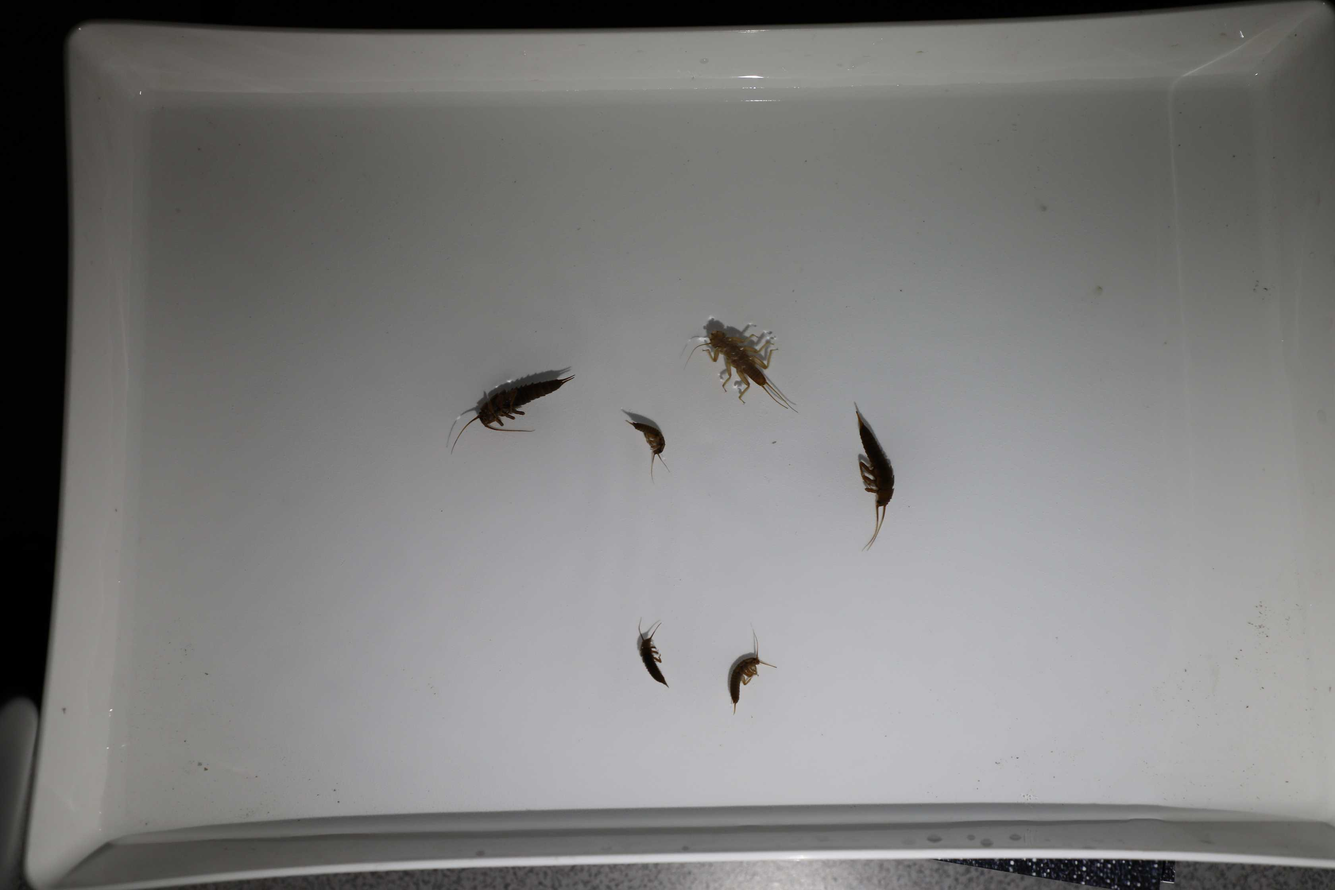Stonefly: (684, 320, 801, 426), (443, 365, 575, 457), (847, 398, 897, 548), (725, 626, 776, 717), (616, 408, 670, 489), (629, 624, 675, 692)
